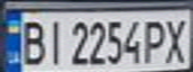2: (66, 16, 90, 68), (87, 17, 109, 66)
4: (121, 16, 145, 65)
5: (106, 16, 127, 66)
B: (15, 16, 48, 66)
I: (42, 16, 69, 66)
P: (142, 16, 169, 64)
X: (160, 15, 193, 64)
